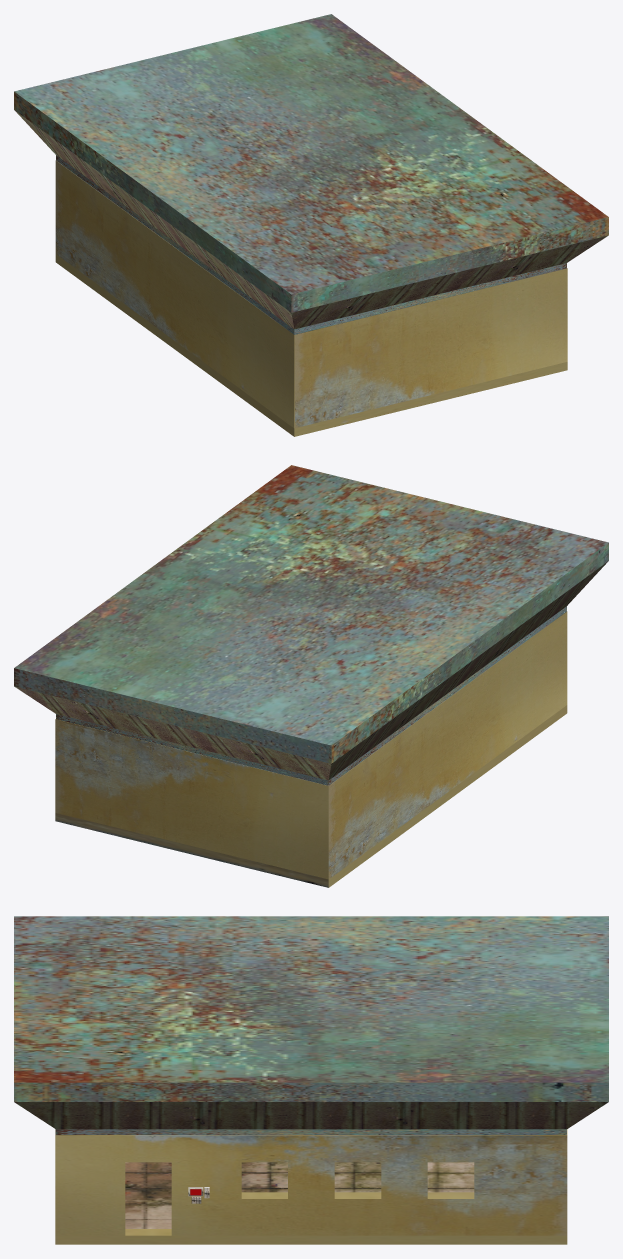
File: MedRoom.fbx
3 views of the same model, one above another, from view 1: azimuth 30°, elevation 25°; view 2: azimuth 150°, elevation 25°; view 3: azimuth 270°, elevation 25° (orthographic). The views are drawn at different scales.
Parts seen in each view (by area): view 1: MedR_Roof, MedR; view 2: MedR_Roof, MedR; view 3: MedR_Roof, MedR.
Part boxes in pixels (x1=…): MedR_Roof: x1=14, y1=14, x2=608, y2=334; MedR: x1=55, y1=160, x2=567, y2=436; MedR_Roof: x1=14, y1=465, x2=608, y2=785; MedR: x1=55, y1=611, x2=567, y2=887; MedR_Roof: x1=14, y1=916, x2=608, y2=1134; MedR: x1=55, y1=1129, x2=567, y2=1244.
Bounding box in the file's own units: 1197 × 583 × 1812.
16 materials, 15 textured.
